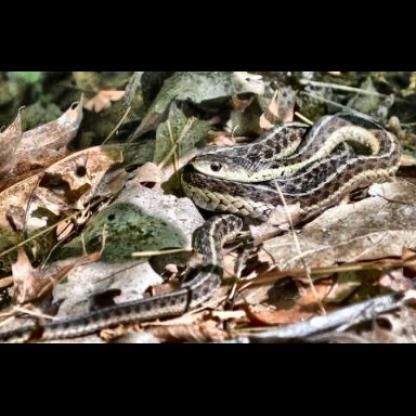Snake: (177, 111, 400, 229)
